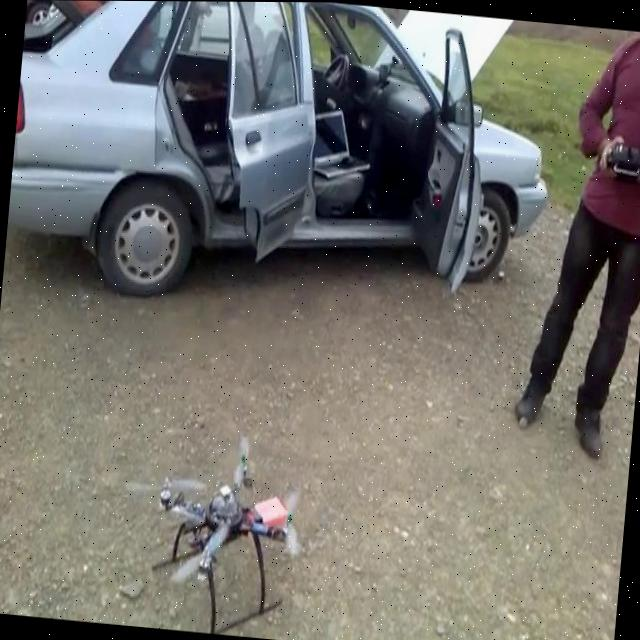drone: (142, 425, 307, 639)
